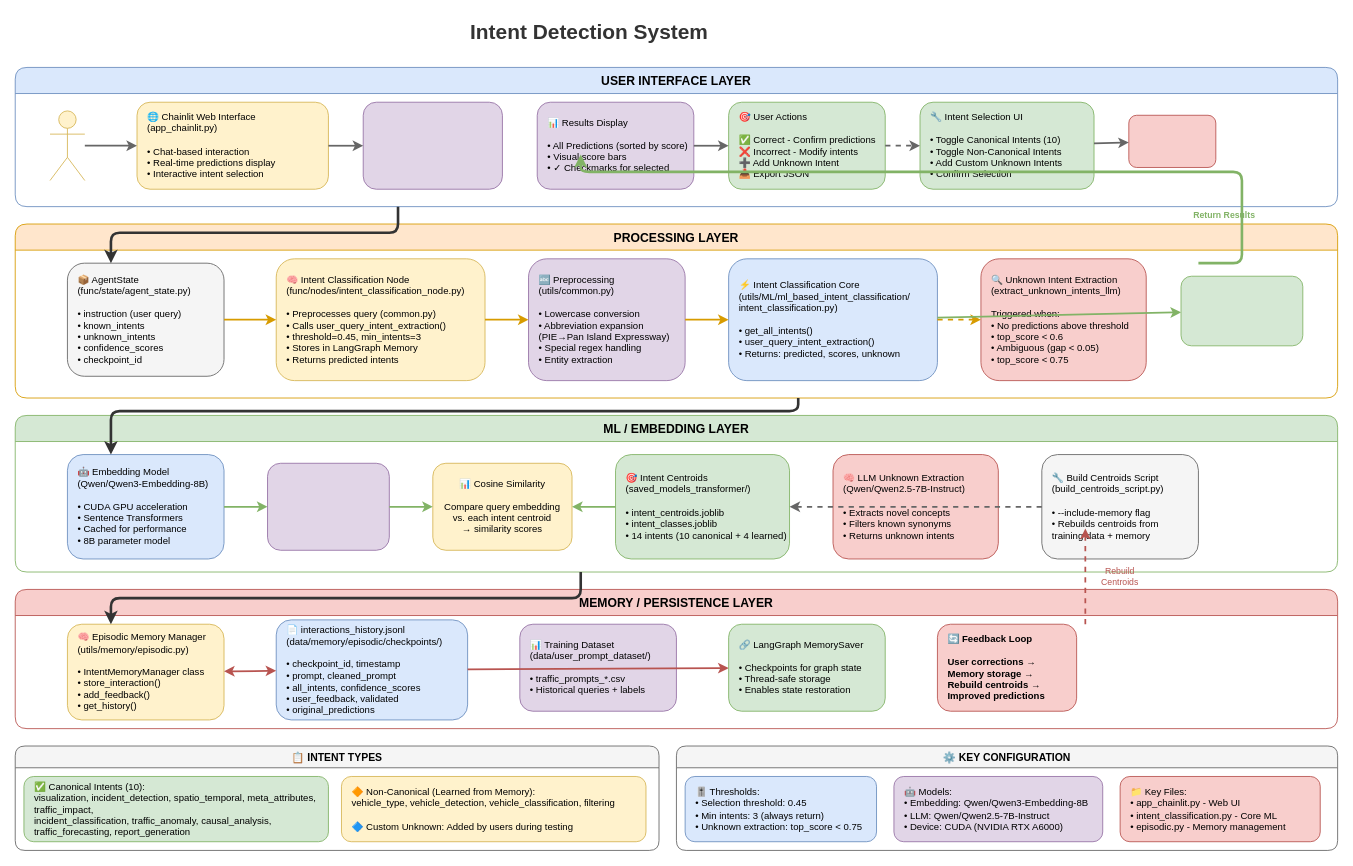
Some shapes in this 1353 by 866 pixel diagram are drawn without their labels. The centre of each missing label's shape, as x and y in pixels:
👤 User: (x=67, y=145)
💾 Feedback Saved: (x=1172, y=140)
📌 Min Intents Logic Always return at least 3 even if below threshold: (x=1241, y=310)
📐 Query Embedding model.encode([prompt]) → 768D vector: (x=328, y=506)
📝 Query Input "Show me accidents on Highway 1 last week": (x=432, y=145)
